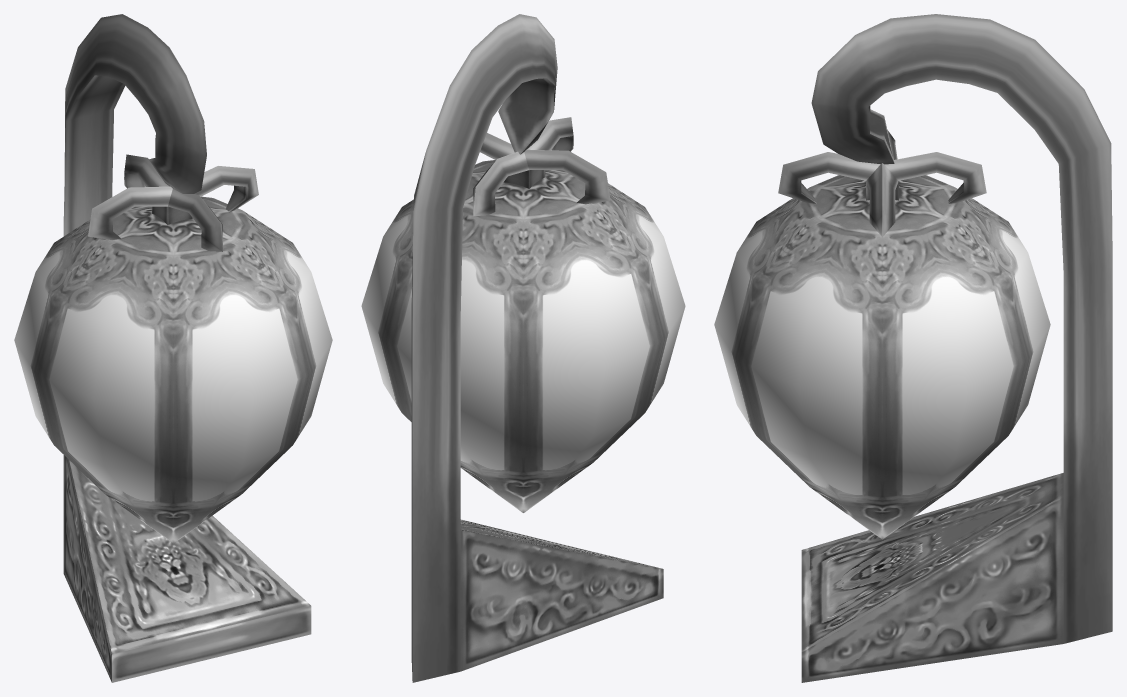
File: QueenLamp_HD.fbx
3 renders of one model, left to right at view 1: azimuth 30°, elevation 25°; view 2: azimuth 150°, elevation 25°; view 3: azimuth 270°, elevation 25°, orthographic. The views are drawn at different scales.
Visible parts, largest first — view 1: QueenLamp; view 2: QueenLamp; view 3: QueenLamp.
Boxes of the visible parts, bbox=[...] form: QueenLamp: bbox=[14, 14, 332, 682]; QueenLamp: bbox=[361, 14, 685, 682]; QueenLamp: bbox=[714, 14, 1112, 682].
Size of the model in its own units: 0.4826 by 0.9774 by 0.5716.
